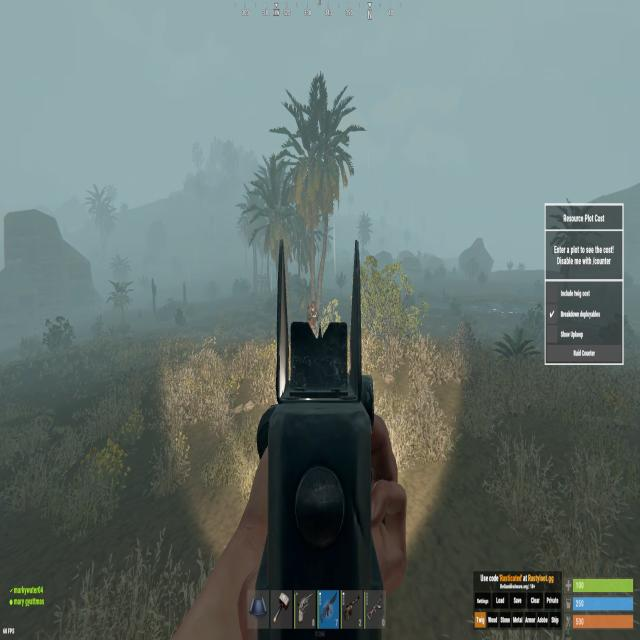Player: (307, 300, 318, 326)
